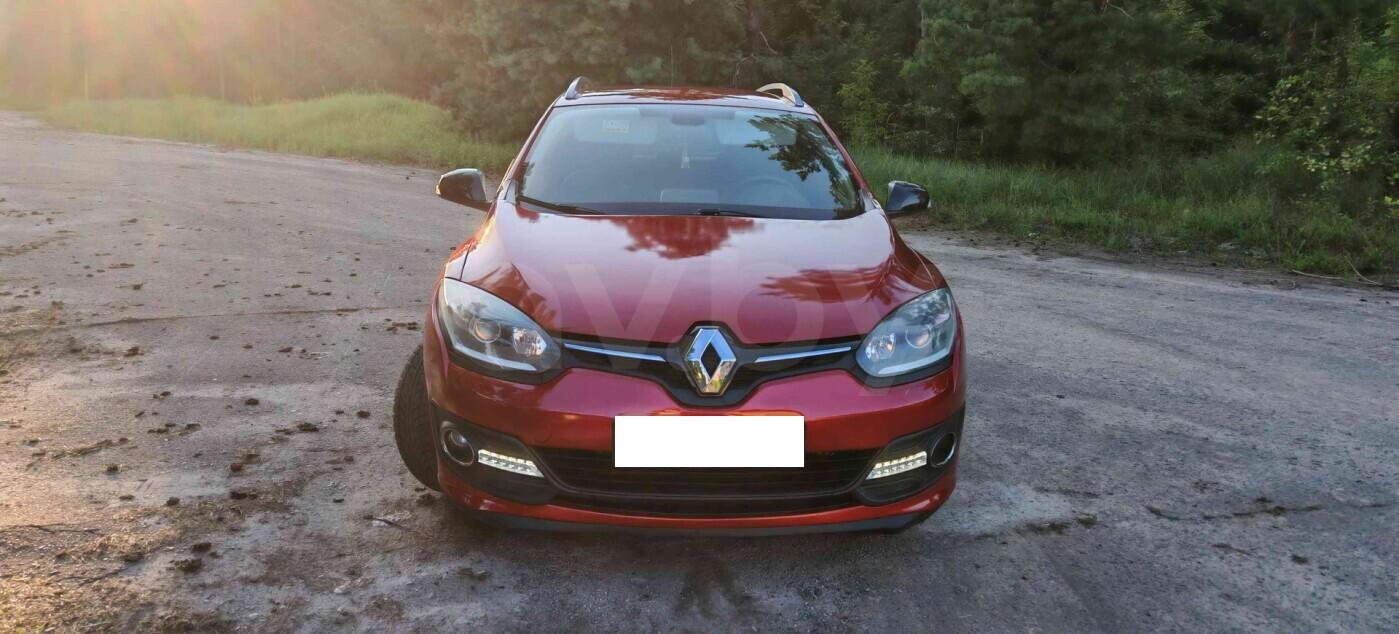Megane_2012-2014: (394, 81, 977, 561)
